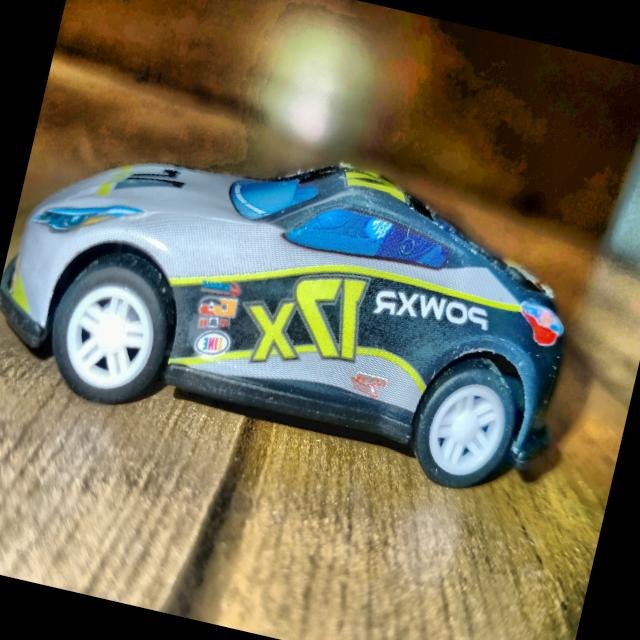Car: (0, 96, 593, 505)
